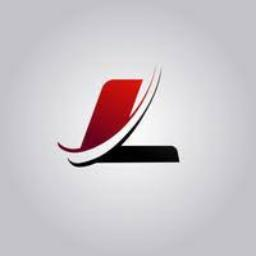l: (42, 54, 200, 182)
